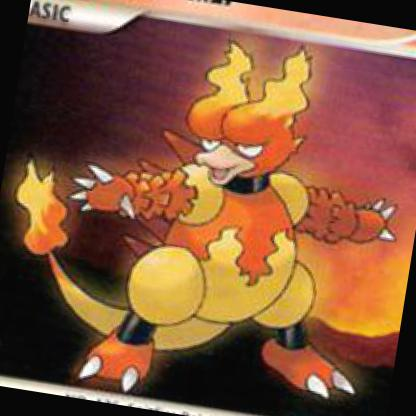Magmar: (0, 48, 415, 415)
